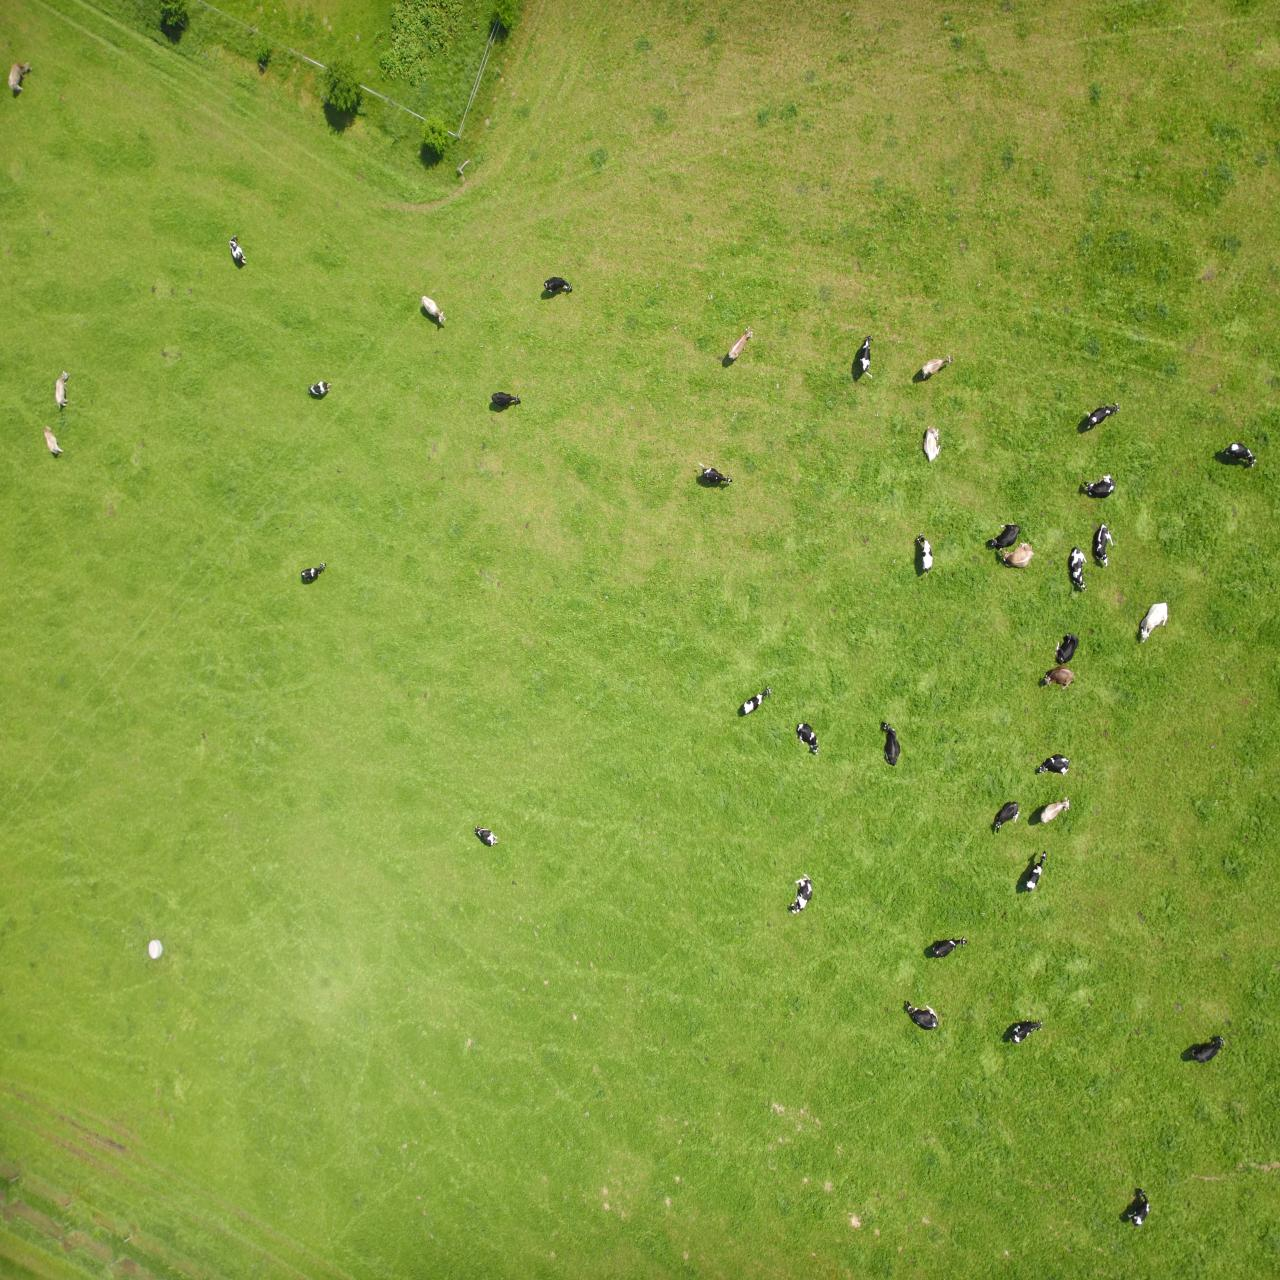cow: (113, 638, 138, 680), (468, 365, 490, 407), (341, 250, 373, 279), (23, 812, 57, 839), (245, 712, 280, 737), (161, 850, 193, 877), (527, 919, 552, 954), (130, 54, 152, 91), (260, 730, 291, 757), (380, 515, 399, 558), (260, 447, 285, 479), (200, 614, 225, 647), (326, 901, 359, 926), (56, 217, 87, 243), (233, 387, 253, 425), (166, 714, 184, 757), (210, 457, 240, 482), (206, 590, 237, 614), (164, 781, 195, 805), (1247, 1190, 1272, 1220), (238, 237, 270, 260), (461, 524, 483, 557), (313, 321, 347, 342), (347, 703, 363, 747), (210, 504, 241, 526), (509, 566, 536, 592), (547, 796, 580, 817), (193, 688, 209, 731), (339, 818, 356, 855), (833, 959, 858, 985), (407, 900, 421, 944), (1211, 869, 1225, 911), (1032, 1015, 1050, 1046), (1217, 825, 1235, 855), (953, 700, 979, 720), (782, 434, 805, 455), (707, 987, 736, 1003), (760, 873, 788, 888), (948, 885, 972, 899)
